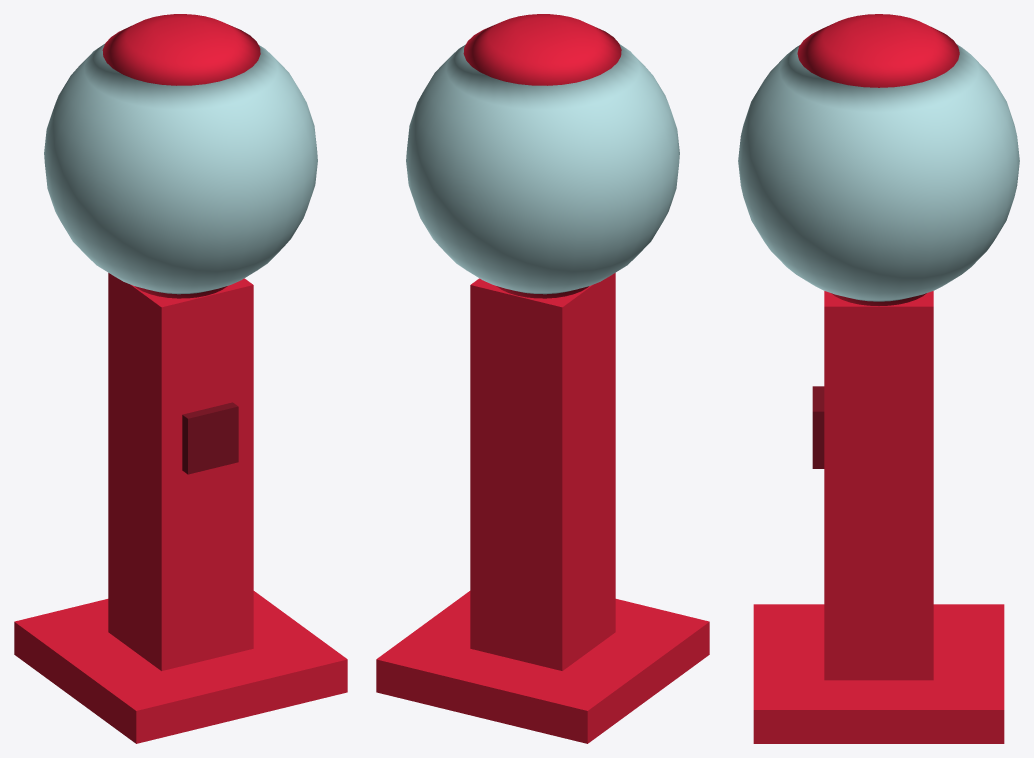
The model's file is tommy.fbx.
3 views of the same model, side by side, from view 1: azimuth 30°, elevation 25°; view 2: azimuth 150°, elevation 25°; view 3: azimuth 270°, elevation 25° (orthographic). The views are drawn at different scales.
Visible parts, largest first — view 1: TommyBody; view 2: TommyBody; view 3: TommyBody.
Boxes of the visible parts, bbox=[...] form: TommyBody: bbox=[14, 14, 347, 743]; TommyBody: bbox=[376, 14, 709, 743]; TommyBody: bbox=[738, 14, 1019, 743].
Size of the model in its own units: 5.66 by 5.66 by 14.66.
